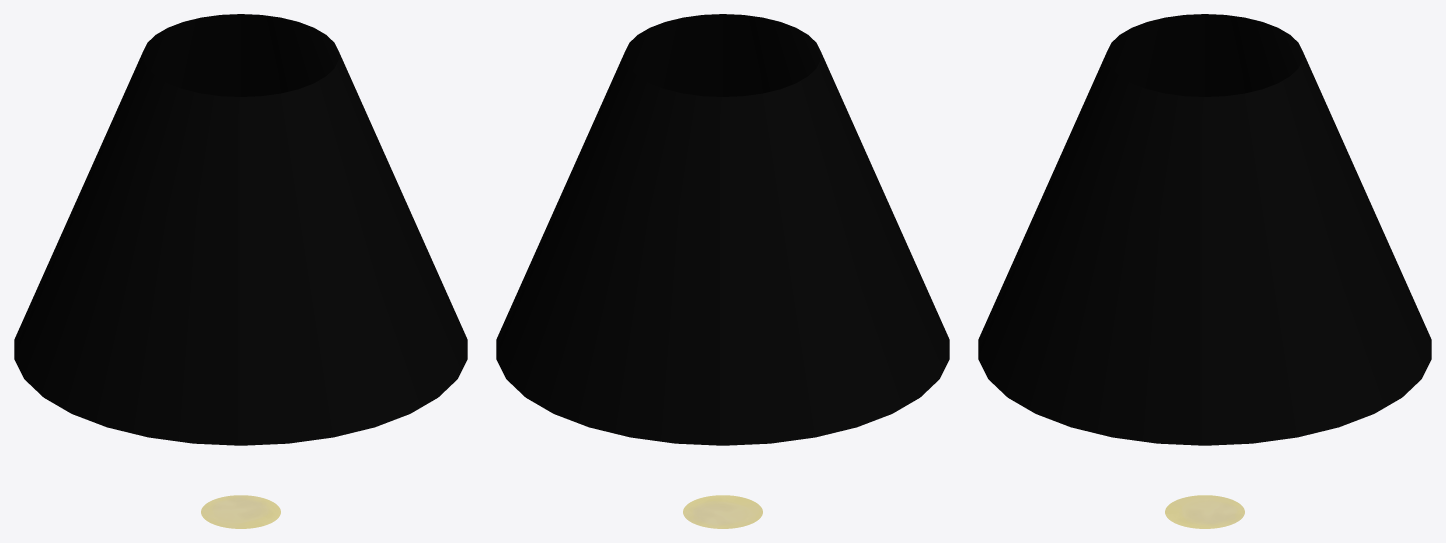
Rendered from floor_spotlight 1.fbx.
3 views of the same model, side by side, from view 1: azimuth 30°, elevation 25°; view 2: azimuth 150°, elevation 25°; view 3: azimuth 270°, elevation 25° (orthographic).
Visible parts, largest first — view 1: pCylinder3, polySurface4; view 2: pCylinder3, polySurface4; view 3: pCylinder3, polySurface4.
Part boxes in pixels (box(x1,y1,x2,y2)): pCylinder3: box(14, 14, 467, 445); polySurface4: box(201, 495, 280, 528); pCylinder3: box(496, 14, 949, 445); polySurface4: box(683, 495, 762, 528); pCylinder3: box(978, 14, 1431, 445); polySurface4: box(1165, 495, 1244, 528).
Bounding box in the file's own units: 11.37 × 12.57 × 11.31.
